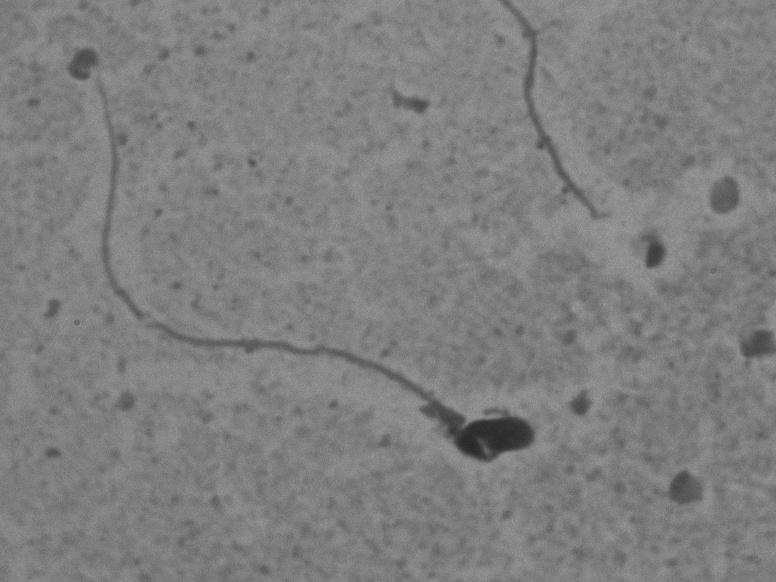Abnormal: (80, 40, 558, 476)
